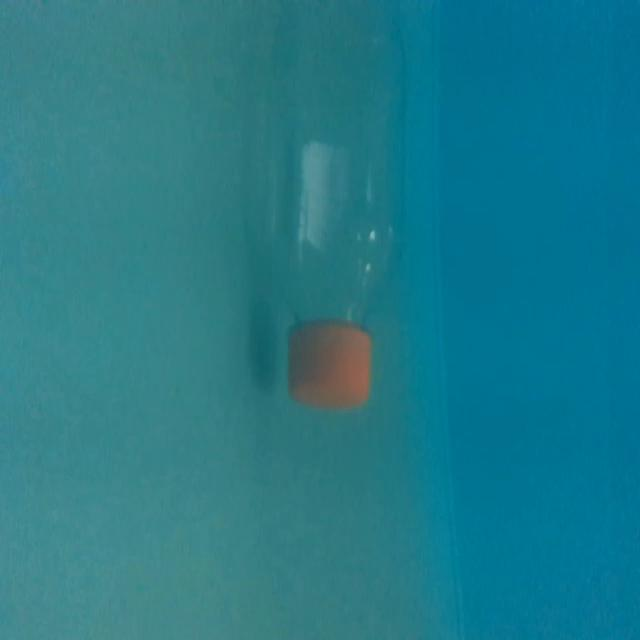plastic bottle: (254, 6, 413, 410)
